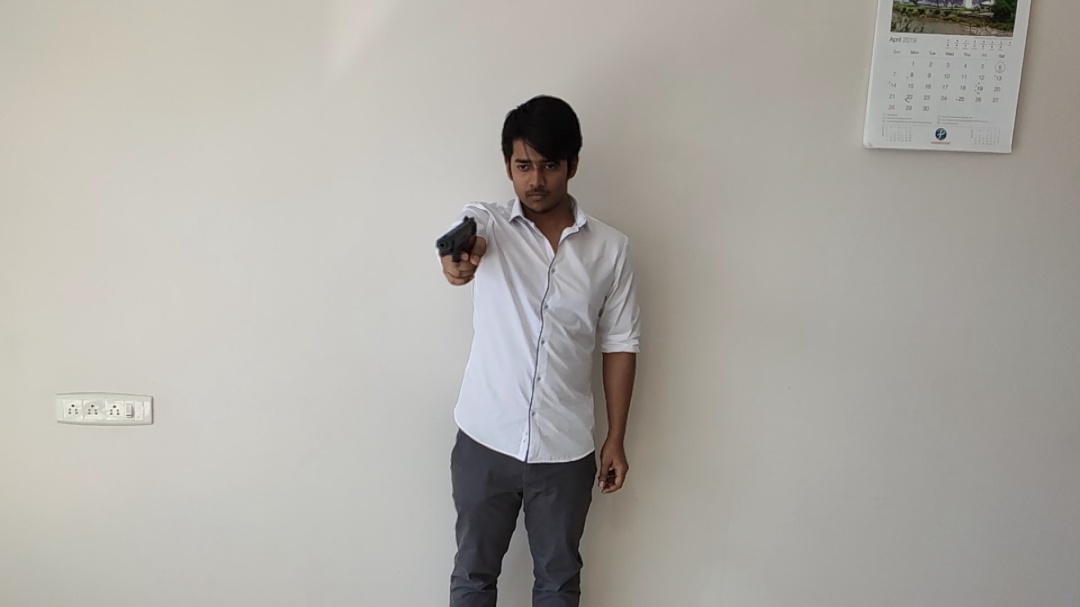gun: (436, 217, 479, 264)
